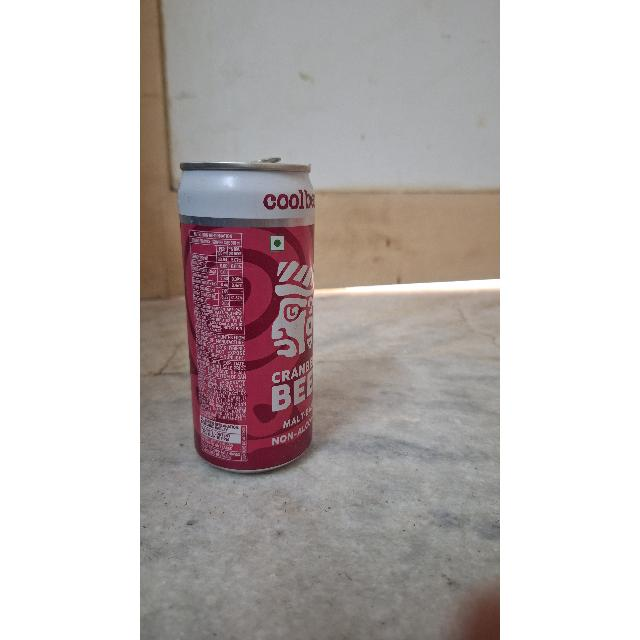Coolberg: (174, 159, 316, 473)
